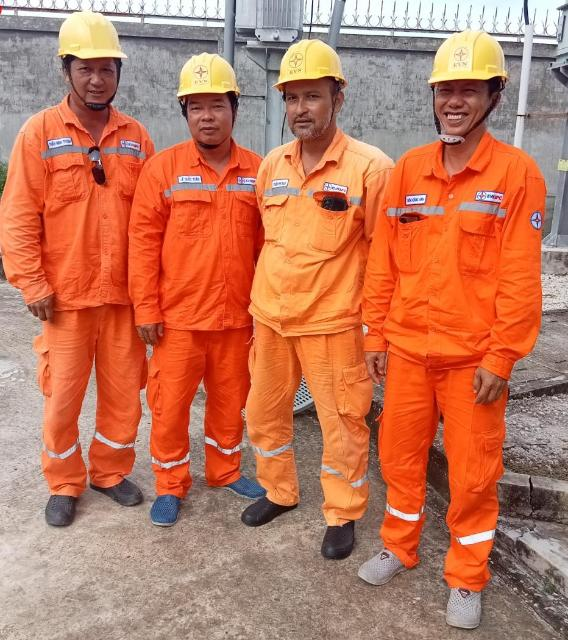helmet: (413, 18, 520, 115), (43, 0, 147, 84), (169, 35, 262, 122), (267, 37, 348, 96)
shoes: (208, 482, 308, 533), (425, 570, 494, 640), (350, 539, 410, 596), (38, 478, 87, 542), (136, 477, 184, 535), (201, 469, 269, 505), (313, 511, 360, 563), (89, 468, 145, 507)
